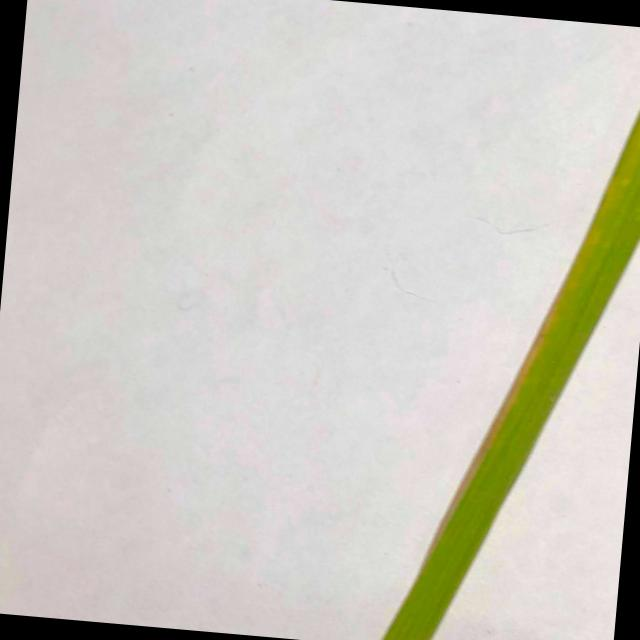Rice_Healthy: (382, 113, 640, 640)
